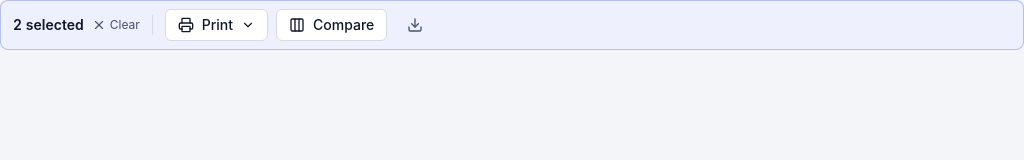
Test: who sees what › production sees no Change menu and no price list
Expected: the button named "Export CSV" is shown, left=395, top=9, right=435, bottom=41
Step 1. Click the button "Print" → coordinates (216, 25), box left=165, top=9, right=268, bottom=41
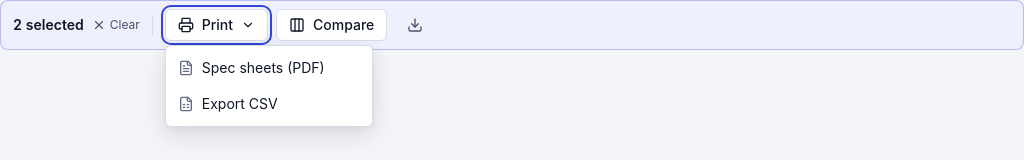
Now the menu item "Spec sheets (PDF)" is shown, box left=166, top=50, right=372, bottom=86
